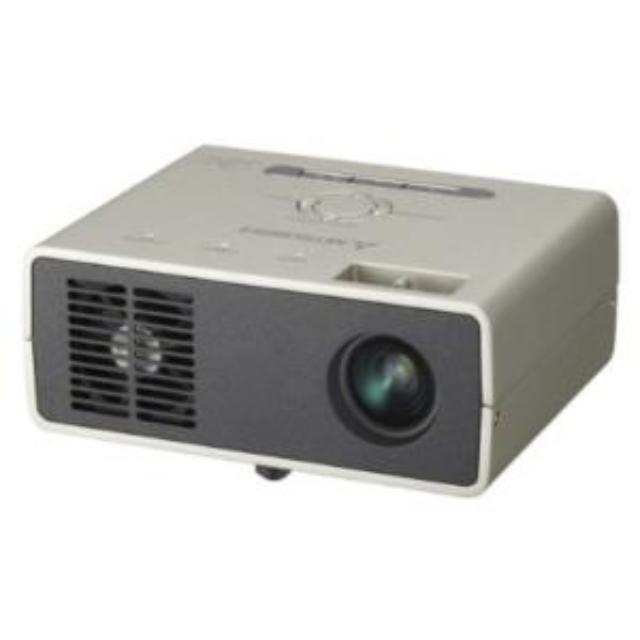Projector: (1, 143, 640, 504)
